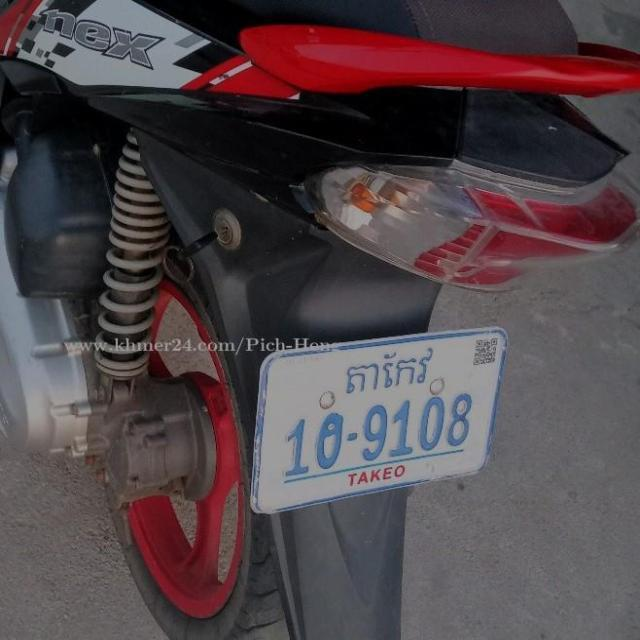Takeo: (344, 346, 434, 394)
